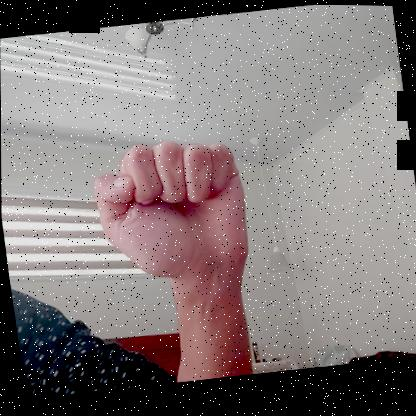A: (85, 130, 257, 287)
